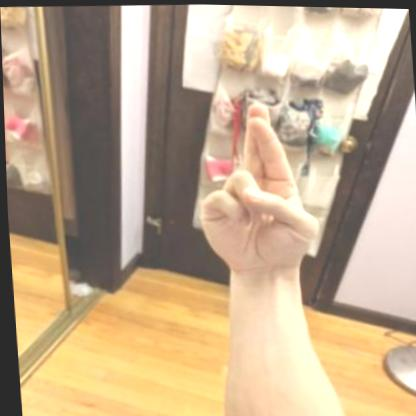R: (183, 90, 331, 283)
